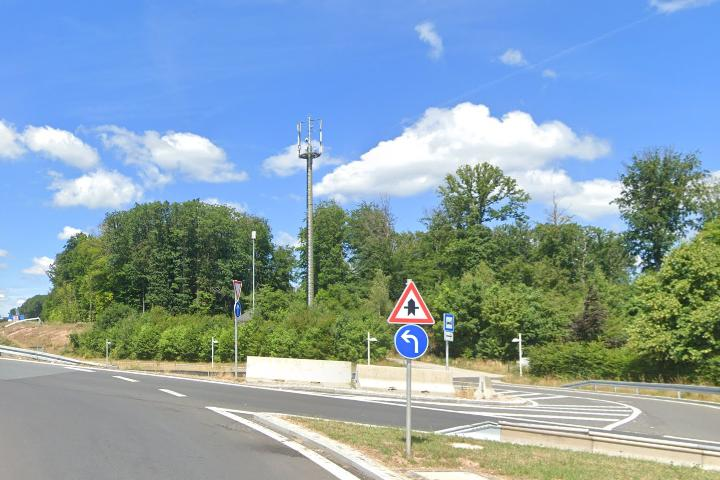traffic_sign: (386, 279, 436, 325), (393, 324, 429, 359), (233, 280, 242, 301), (234, 302, 241, 317)
